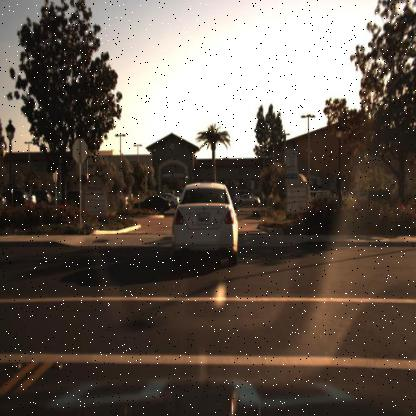car: (172, 184, 242, 272), (135, 193, 171, 216), (60, 188, 87, 210), (237, 192, 260, 209), (164, 188, 179, 212), (233, 192, 261, 204), (167, 194, 181, 212)
